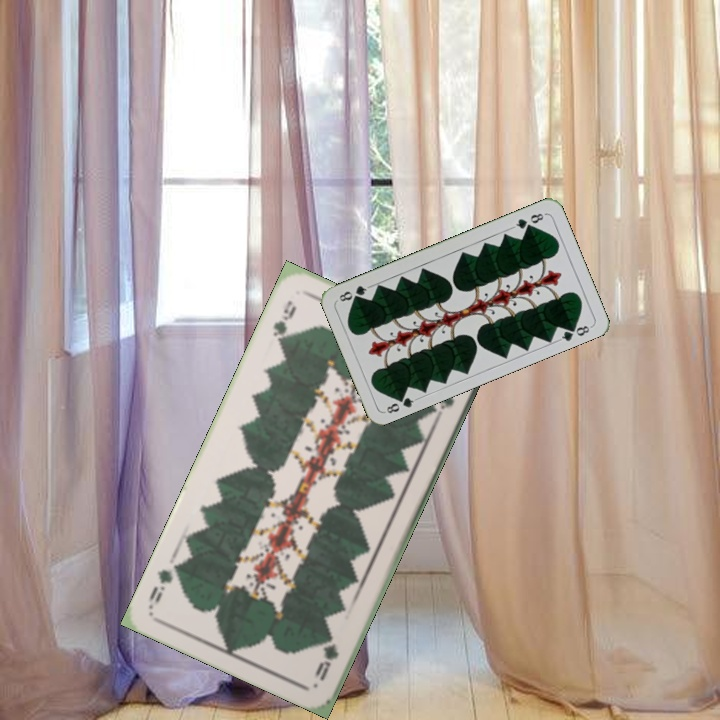G8: (381, 390, 420, 416), (509, 209, 548, 231)
G9: (311, 628, 342, 684), (269, 296, 299, 350)
